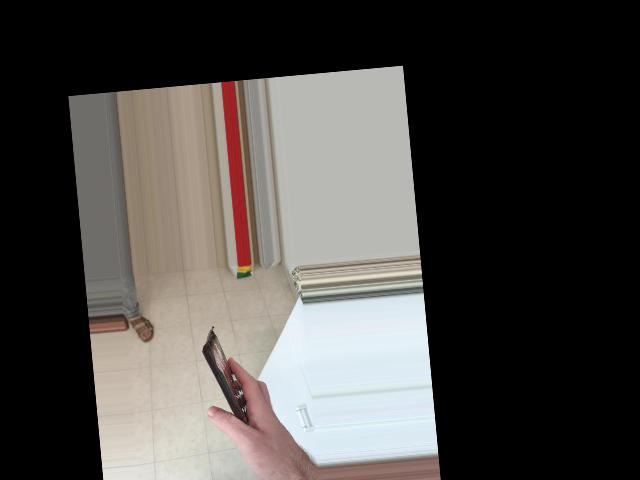chocolate: (193, 324, 261, 439)
